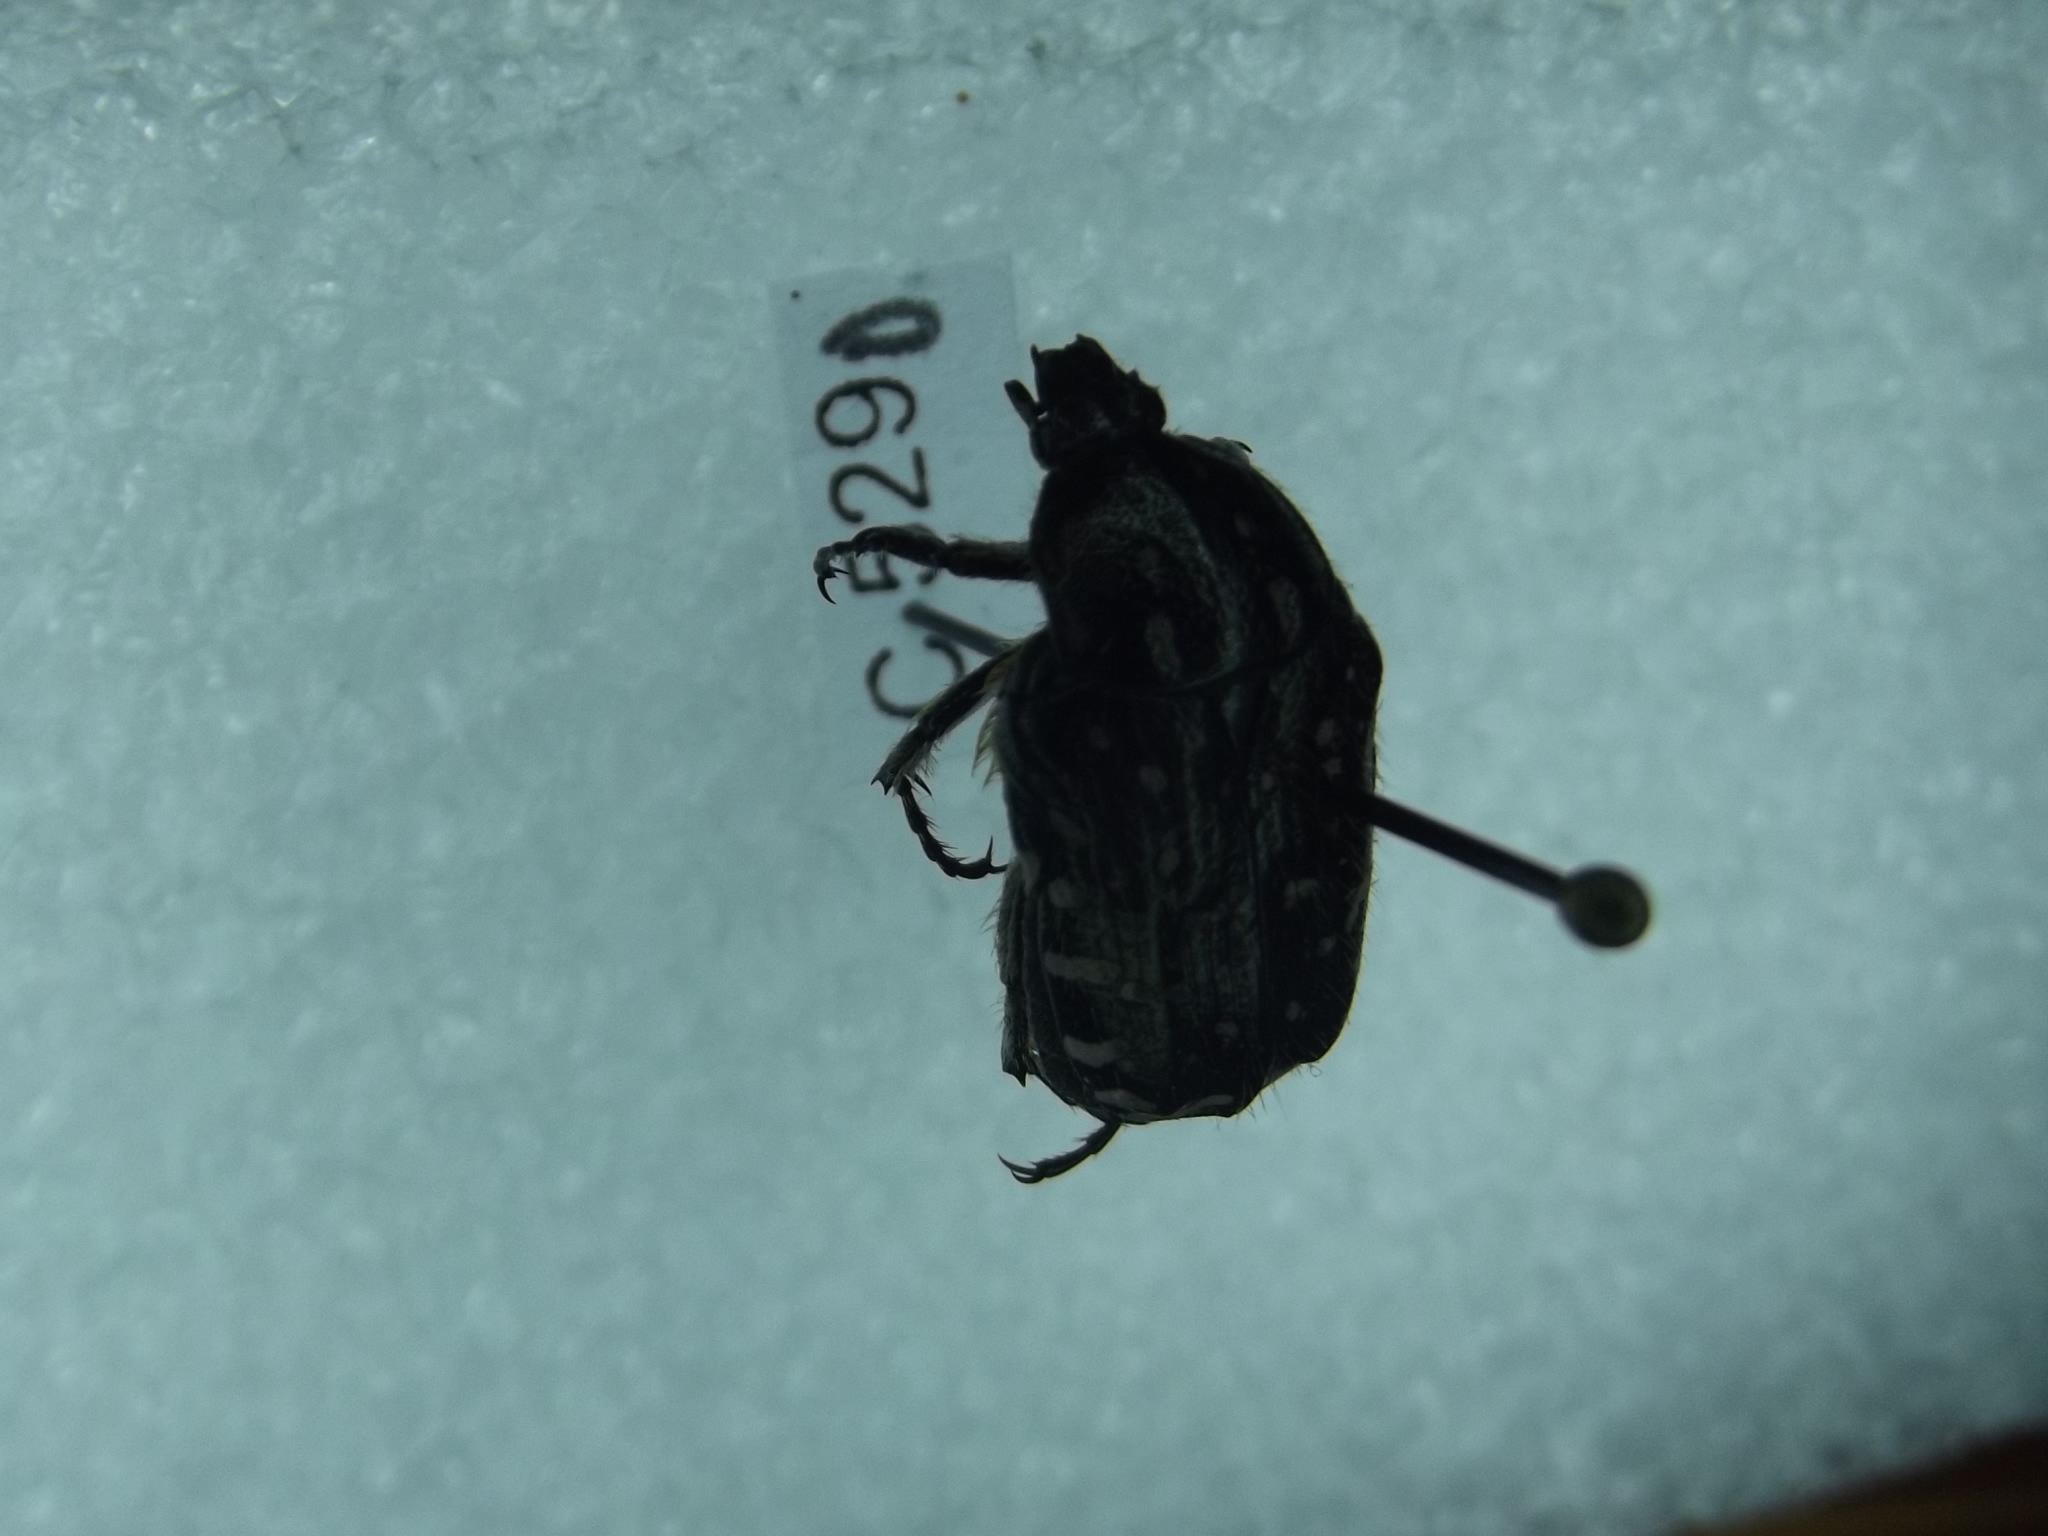Oxythyrea_funesta: (797, 307, 1424, 1221)
